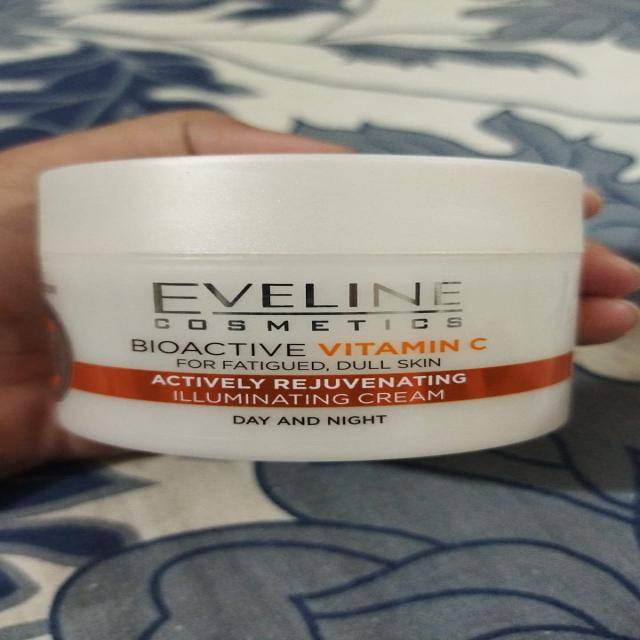lotion: (12, 137, 602, 467)
